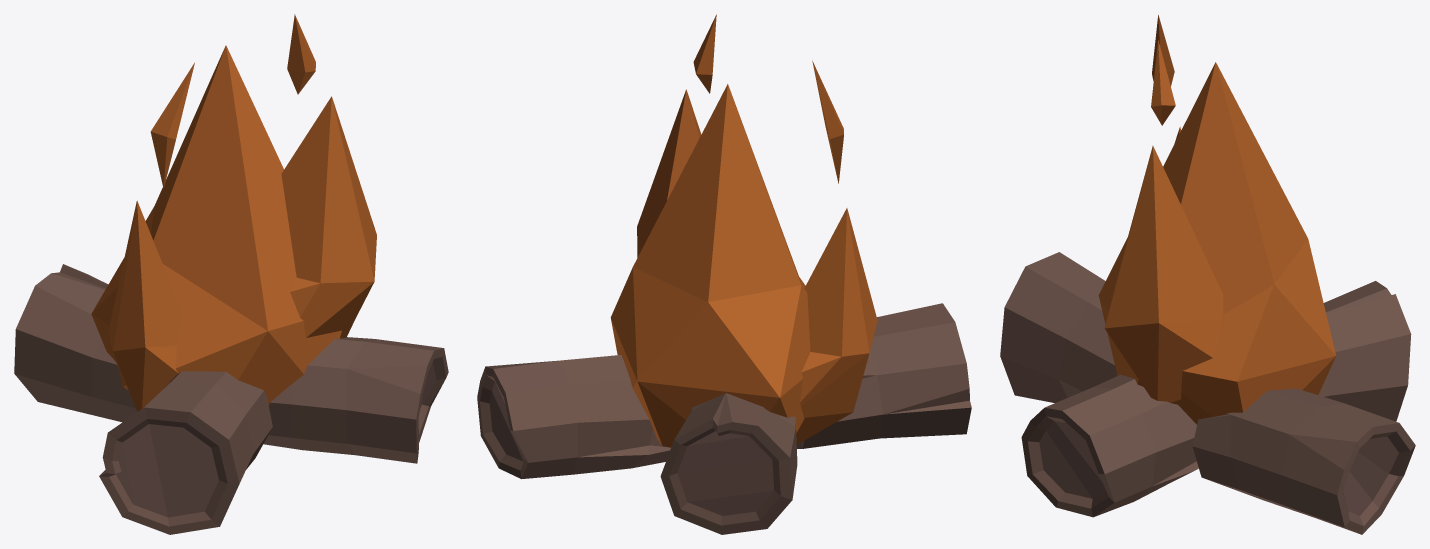
Rendered from Bonfire_Fire.glb.
3 views of the same model, side by side, from view 1: azimuth 30°, elevation 25°; view 2: azimuth 150°, elevation 25°; view 3: azimuth 270°, elevation 25° (orthographic). The views are drawn at different scales.
Parts seen in each view (by area): view 1: Bonfire_Fire; view 2: Bonfire_Fire; view 3: Bonfire_Fire.
Part boxes in pixels (x1,y1,x2,y2): Bonfire_Fire: (14,14,448,534); Bonfire_Fire: (477,14,971,534); Bonfire_Fire: (1000,15,1415,534).
Size of the model in its own units: 2.18 by 2.31 by 1.98.
